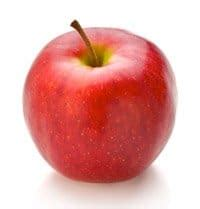apple: (21, 23, 183, 186)
